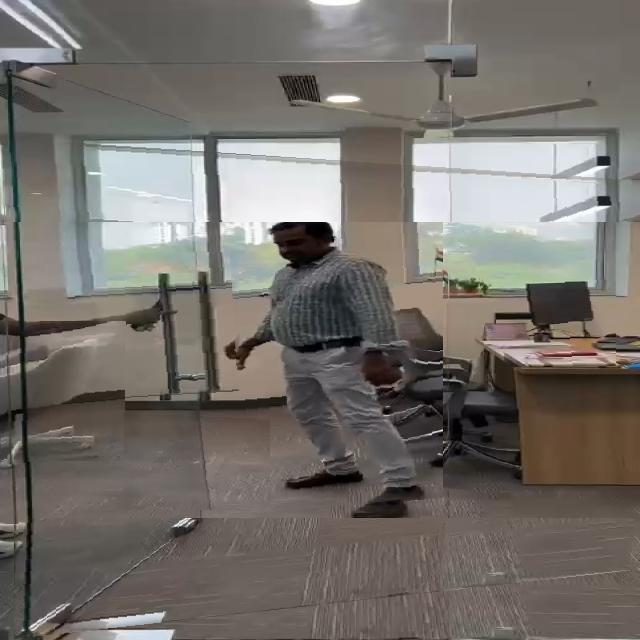floor: (14, 518, 640, 640), (83, 412, 270, 510)
furniture: (0, 321, 126, 465), (496, 275, 616, 367)
moving_object: (228, 222, 443, 514)
wall: (3, 138, 640, 222), (46, 252, 240, 402)
